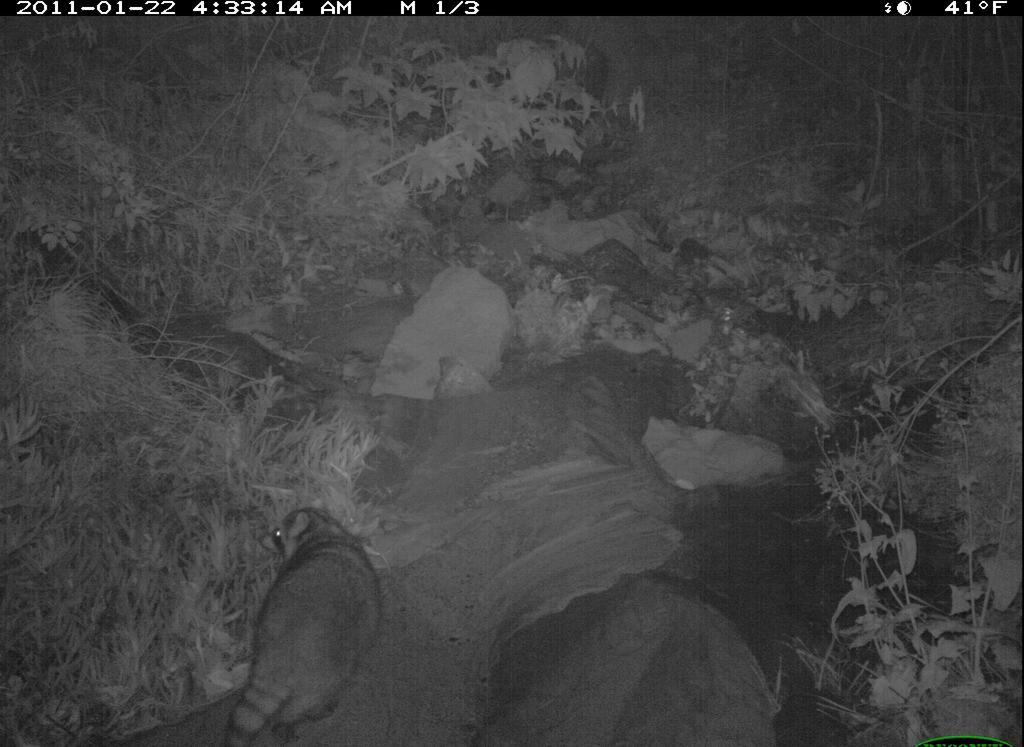raccoon: (219, 502, 399, 740)
